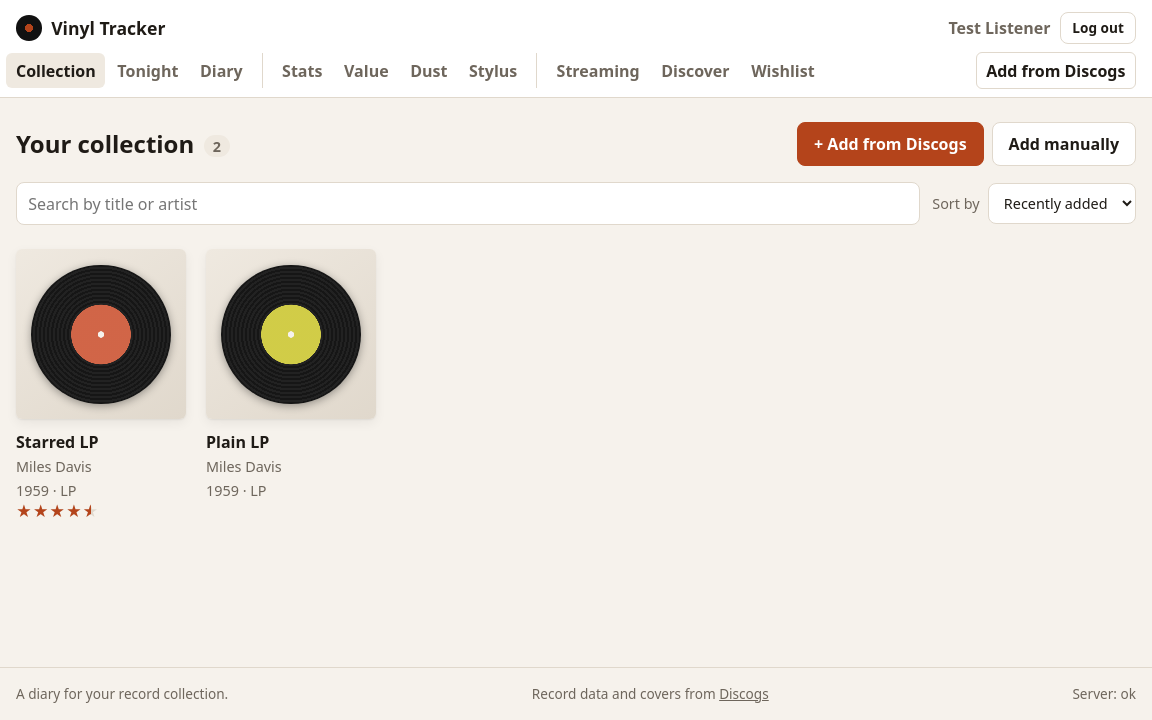
Test: where the stars show up › on rated records in the collection, and rated plays in the diary
Expected: the picture named "4.5 stars" is shown, [16,501,99,521]
What coordinates should you click on to do the following:
click the link "Diary"
I would click on:
 (221, 71)
Its box is [200,60,243,82].
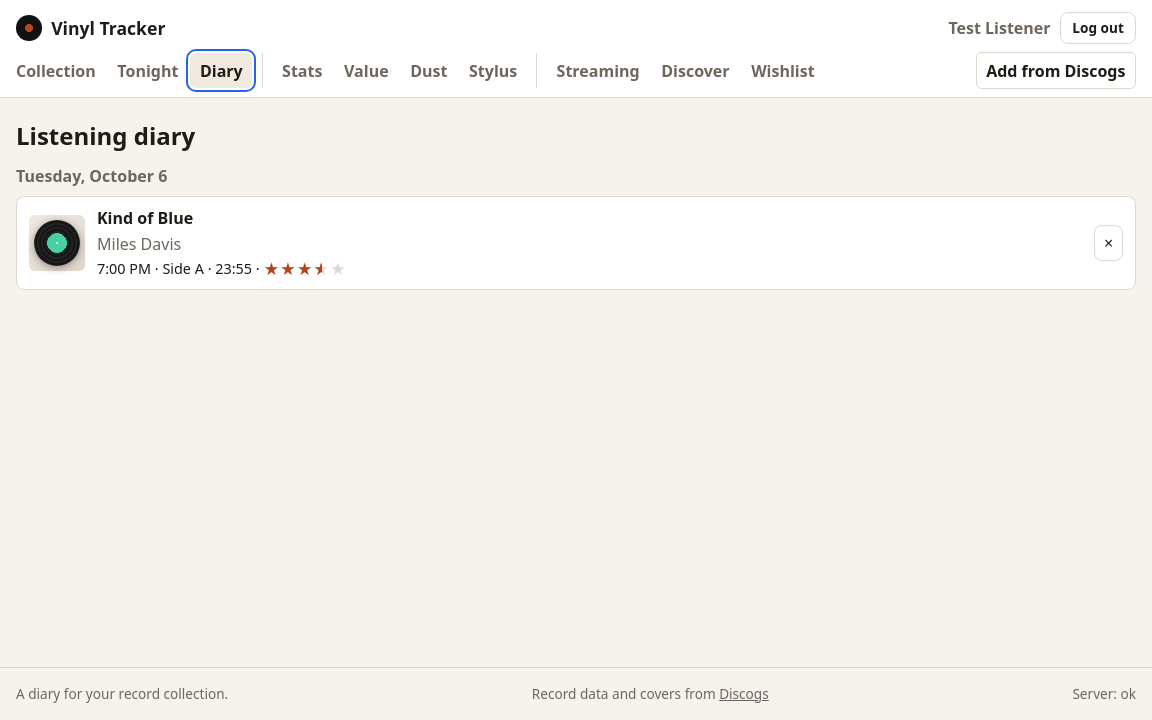
Expected: the picture named "3.5 stars" is shown, [263,262,347,277]
